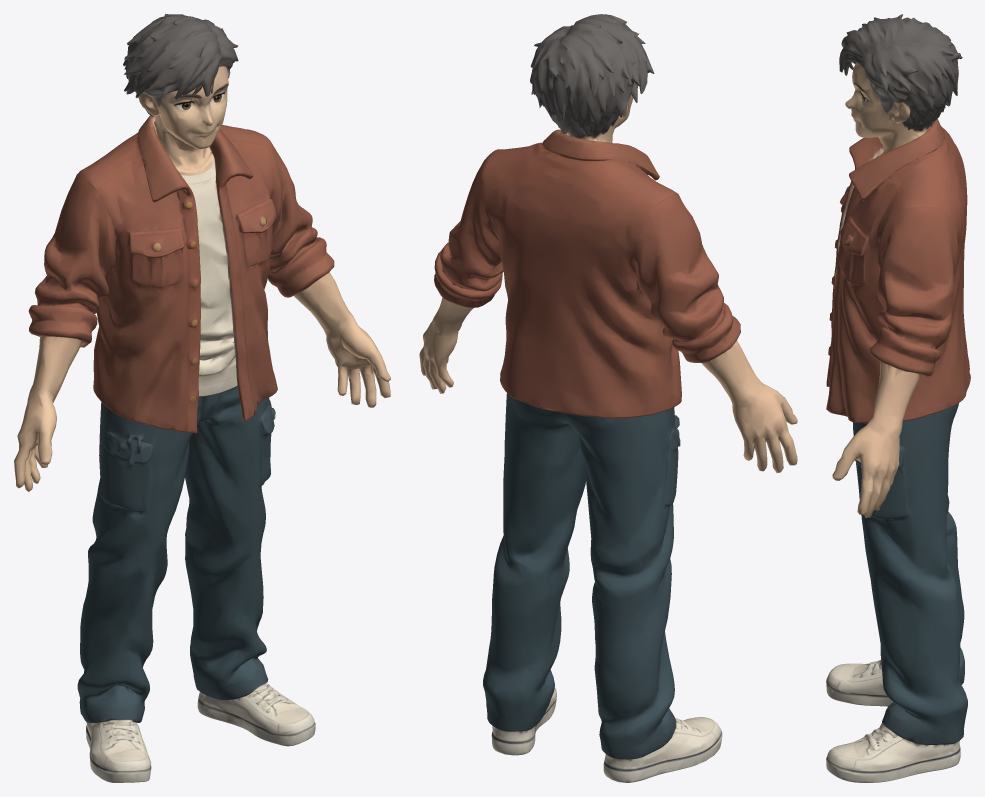
The model's file is CH_Tomo_JRPG_Raw.glb.
The picture shows the model from 3 angles, left to right: view 1: azimuth 30°, elevation 25°; view 2: azimuth 150°, elevation 25°; view 3: azimuth 270°, elevation 25°; orthographic projection.
Visible parts, largest first — view 1: tripo_node_46f53796-b627-47f8-bd88-a45d7cd24866; view 2: tripo_node_46f53796-b627-47f8-bd88-a45d7cd24866; view 3: tripo_node_46f53796-b627-47f8-bd88-a45d7cd24866.
Boxes of the visible parts, box(x1,y1,x2,y2) form: tripo_node_46f53796-b627-47f8-bd88-a45d7cd24866: box(14, 14, 390, 782); tripo_node_46f53796-b627-47f8-bd88-a45d7cd24866: box(419, 14, 797, 782); tripo_node_46f53796-b627-47f8-bd88-a45d7cd24866: box(826, 14, 970, 782).
Bounding box in the file's own units: 0.5424 × 1 × 0.1838.
Materials: 1 (1 with a texture image).
